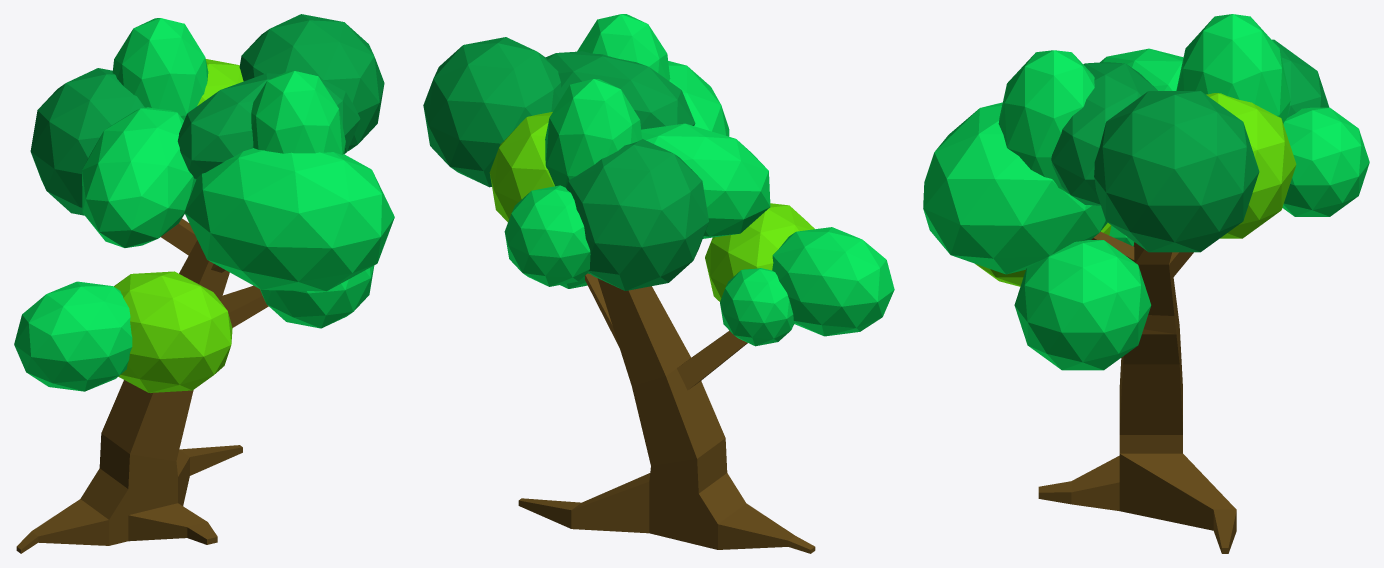
The model's file is tree2.glb.
The picture shows the model from 3 angles, left to right: view 1: azimuth 30°, elevation 25°; view 2: azimuth 150°, elevation 25°; view 3: azimuth 270°, elevation 25°; orthographic projection. The views are drawn at different scales.
Parts seen in each view (by area): view 1: Cube; view 2: Cube; view 3: Cube.
Boxes of the visible parts, x1,y1,x2,y2 form: Cube: [14, 14, 394, 553]; Cube: [423, 14, 894, 553]; Cube: [923, 14, 1369, 553].
Size of the model in its own units: 16.17 by 17.89 by 14.05.
